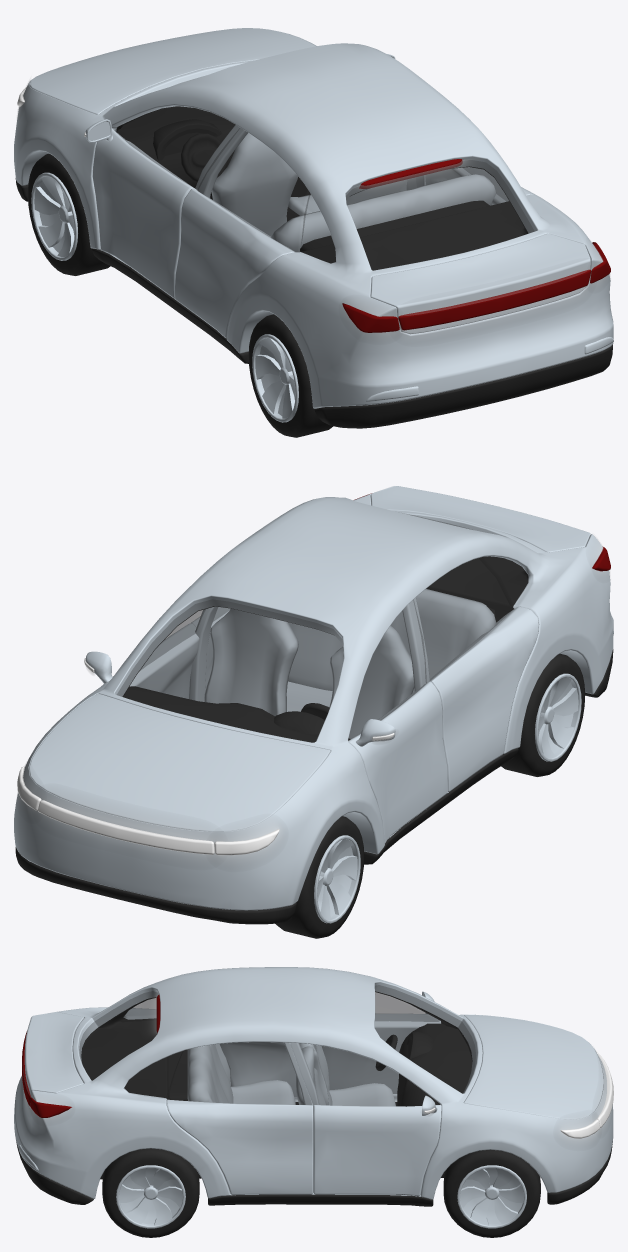
File: ego_car.glb
3 views of the same model, one above another, from view 1: azimuth 30°, elevation 25°; view 2: azimuth 150°, elevation 25°; view 3: azimuth 270°, elevation 25° (orthographic). The views are drawn at different scales.
Visible parts, largest first — view 1: body, doors_back-left, doors_front-left, window_back, trunk, hood, wheels_back-left, wheels_front-left, lights_brakes_volume, quarter_window-left, doors_back-right, lights-brakes_turn-left_volume (+1 smaller); view 2: body, hood, window_front, doors_back-left, doors_front-left, wheels_back-left, wheels_front-left, trunk, doors_front-right, lights_front_volume, lights-front_turn-left_volume, quarter_window-left; view 3: body, doors_back-right, doors_front-right, hood, wheels_back-right, wheels_front-right, window_front, trunk, doors_front-left, window_back, doors_back-left, quarter_window-right (+4 smaller).
Boxes of the visible parts, bbox=[...] form: body: bbox=[14, 33, 613, 428]; doors_back-left: bbox=[175, 128, 309, 338]; doors_front-left: bbox=[84, 107, 239, 298]; window_back: bbox=[346, 160, 534, 270]; trunk: bbox=[370, 233, 591, 334]; hood: bbox=[29, 28, 315, 114]; wheels_back-left: bbox=[248, 314, 333, 437]; wheels_front-left: bbox=[27, 153, 110, 275]; lights_brakes_volume: bbox=[397, 266, 591, 338]; quarter_window-left: bbox=[301, 193, 335, 263]; doors_back-right: bbox=[425, 167, 536, 205]; lights-brakes_turn-left_volume: bbox=[342, 300, 399, 338]; body: bbox=[14, 486, 613, 924]; hood: bbox=[29, 693, 330, 831]; window_front: bbox=[117, 599, 343, 742]; doors_back-left: bbox=[414, 557, 539, 791]; doors_front-left: bbox=[348, 600, 447, 843]; wheels_back-left: bbox=[501, 653, 585, 776]; wheels_front-left: bbox=[275, 816, 364, 938]; trunk: bbox=[370, 486, 590, 552]; doors_front-right: bbox=[84, 609, 205, 698]; lights_front_volume: bbox=[37, 792, 218, 862]; lights-front_turn-left_volume: bbox=[213, 822, 282, 864]; quarter_window-left: bbox=[479, 556, 528, 605]; body: bbox=[14, 967, 613, 1206]; doors_back-right: bbox=[166, 1042, 313, 1195]; doors_front-right: bbox=[290, 1043, 441, 1196]; hood: bbox=[464, 1015, 603, 1119]; wheels_back-right: bbox=[102, 1148, 199, 1237]; wheels_front-right: bbox=[443, 1149, 540, 1237]; window_front: bbox=[375, 985, 475, 1093]; trunk: bbox=[22, 1012, 83, 1107]; doors_front-left: bbox=[321, 991, 440, 1093]; window_back: bbox=[79, 991, 158, 1080]; doors_back-left: bbox=[219, 1042, 296, 1096]; quarter_window-right: bbox=[124, 1051, 182, 1097].
Bounding box in the file's own units: 1.62 × 1.23 × 3.43.
Materials: 28 (9 with a texture image).
